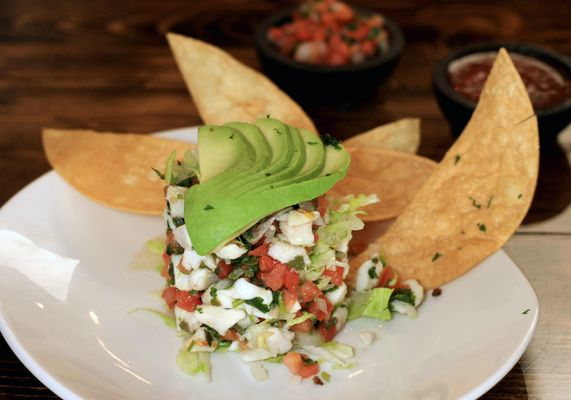soup: (159, 115, 375, 349)
sushi: (251, 0, 406, 104), (434, 39, 571, 138)
